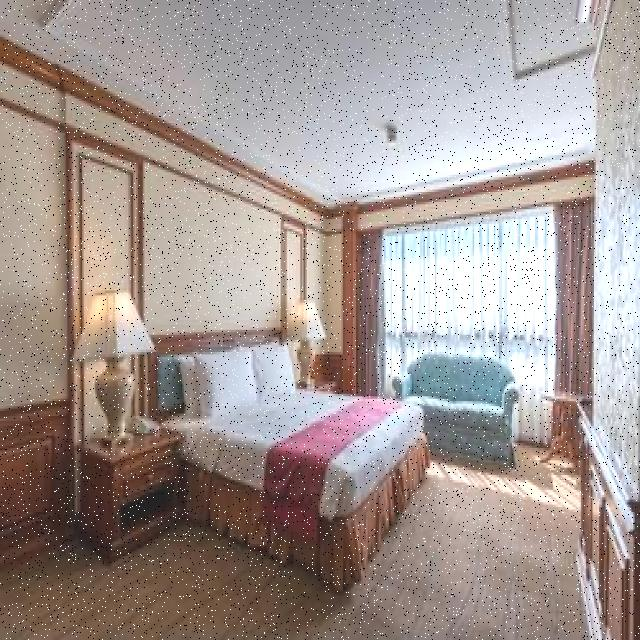bed: (170, 338, 425, 512)
